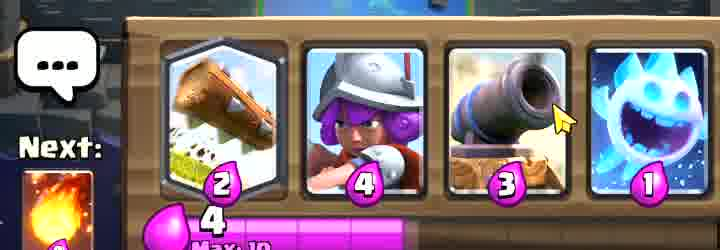cannon: (448, 54, 556, 197)
fireball: (25, 172, 93, 250)
ice-spirit: (595, 45, 710, 199)
log: (167, 43, 281, 190)
musketeer: (308, 48, 425, 205)
